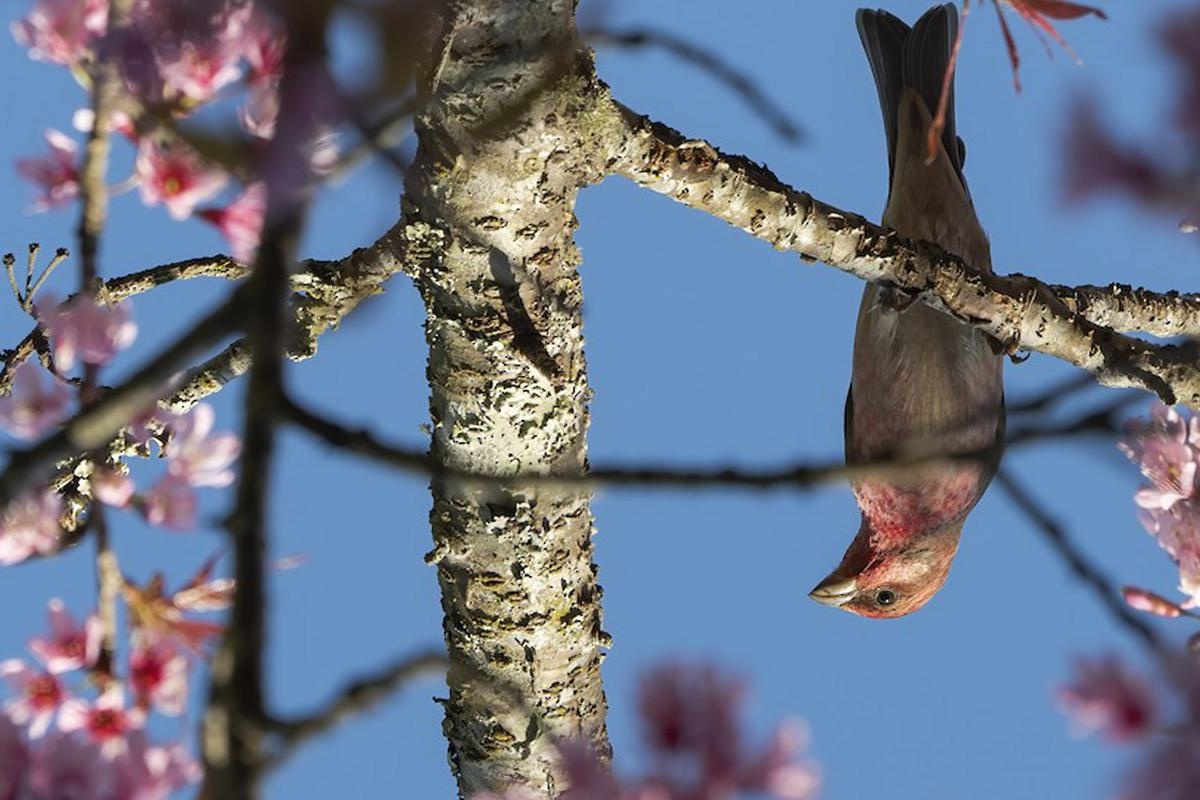rosefinch: (785, 80, 1040, 654)
